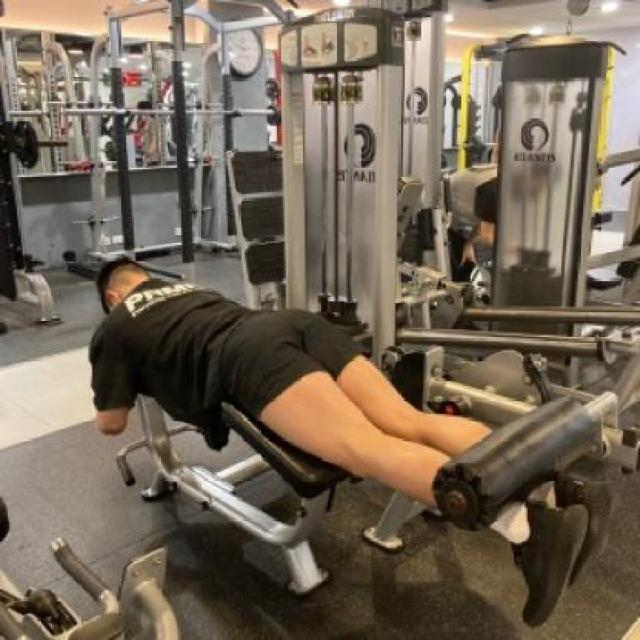reg curl machine: (78, 9, 640, 631)
